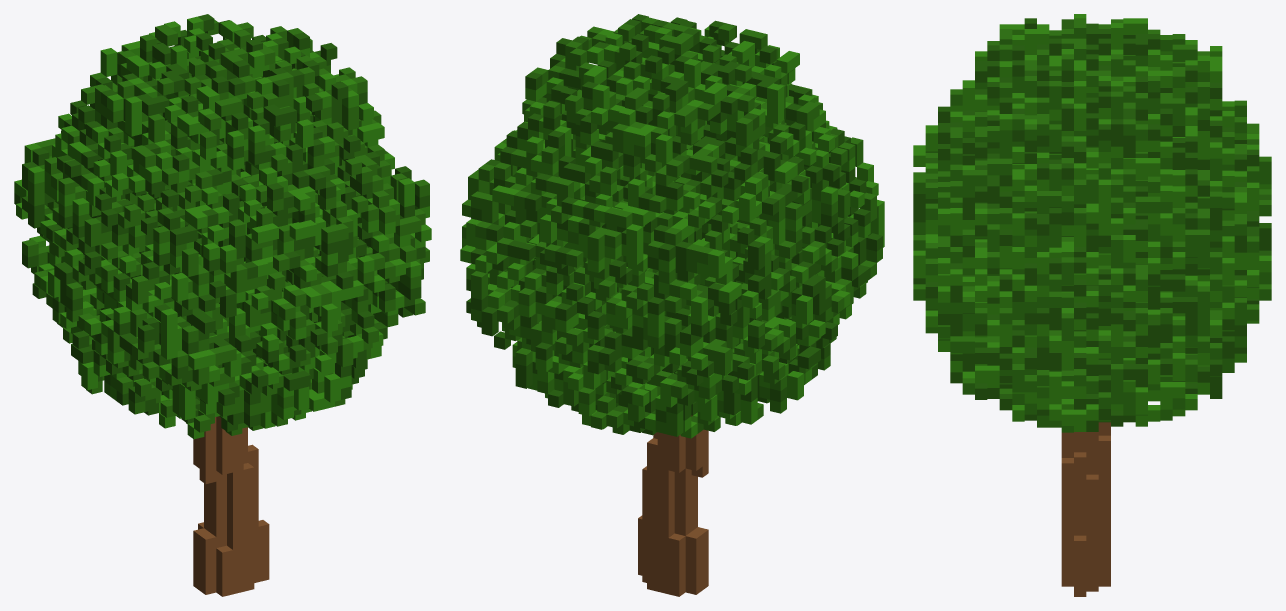
File: Foliage_Set-13.obj
3 views of the same model, side by side, from view 1: azimuth 30°, elevation 25°; view 2: azimuth 150°, elevation 25°; view 3: azimuth 270°, elevation 25° (orthographic).
Bounding box in the file's own units: 2.9 × 4.8 × 2.9.
Materials: 1 (1 with a texture image).
